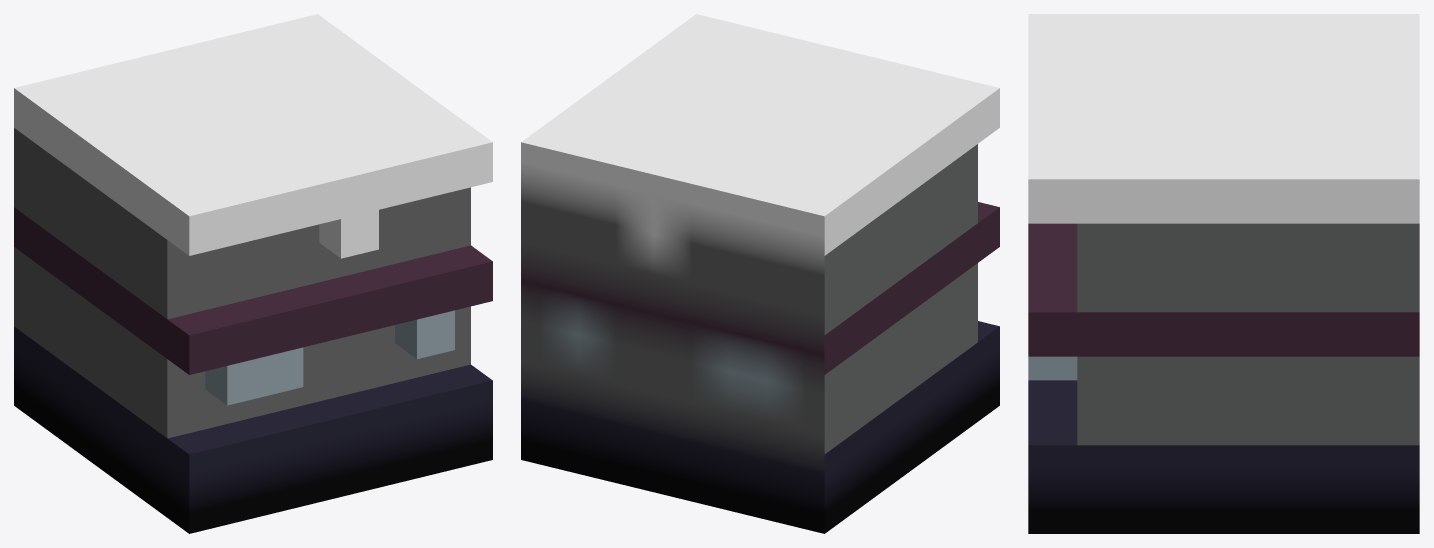
The model's file is floor_3.fbx.
3 renders of one model, left to right at view 1: azimuth 30°, elevation 25°; view 2: azimuth 150°, elevation 25°; view 3: azimuth 270°, elevation 25°, orthographic. The views are drawn at different scales.
Visible parts, largest first — view 1: floor_3; view 2: floor_3; view 3: floor_3.
Part boxes in pixels (box(x1,y1,x2,y2)): floor_3: box(14, 14, 492, 533); floor_3: box(521, 14, 999, 533); floor_3: box(1028, 14, 1419, 533).
Bounding box in the file's own units: 8 × 8 × 8.
